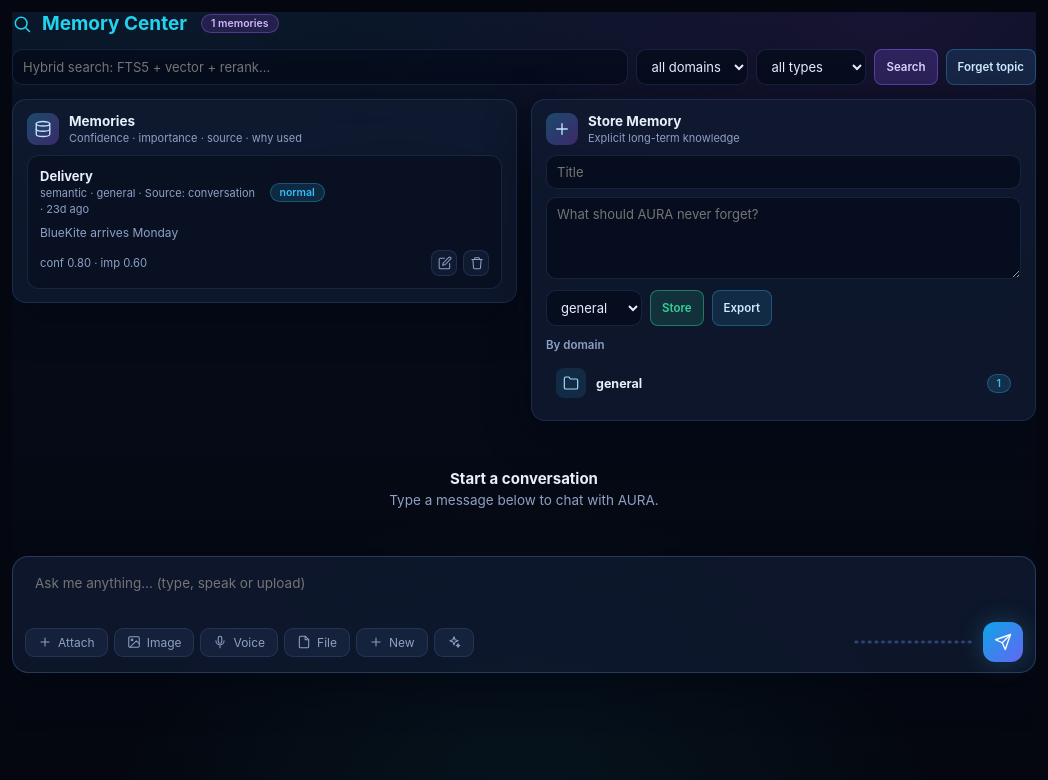
saves a correction through PATCH and shows its retained source
Click the button named "Correct Delivery" at (444, 263), box top-left (431, 250), bottom-right (457, 276)
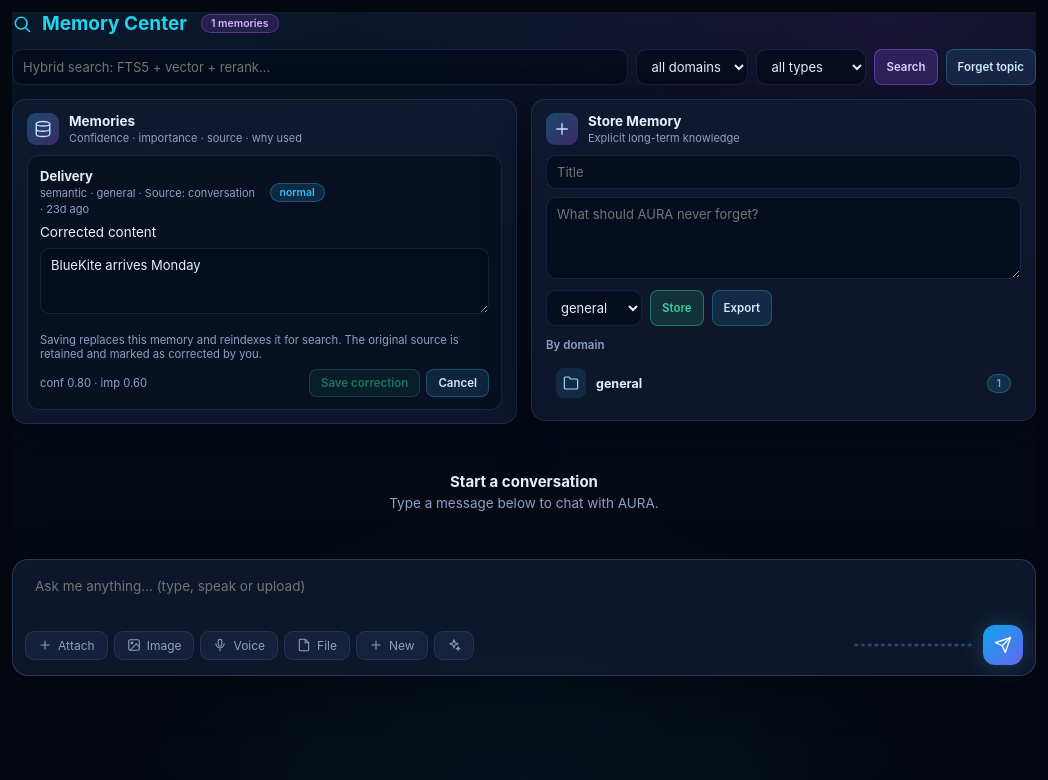
Replace the text in the text box labelled "Corrected content" with "  RedFinch arrives Friday  " at (264, 281), box top-left (40, 248), bottom-right (489, 314)
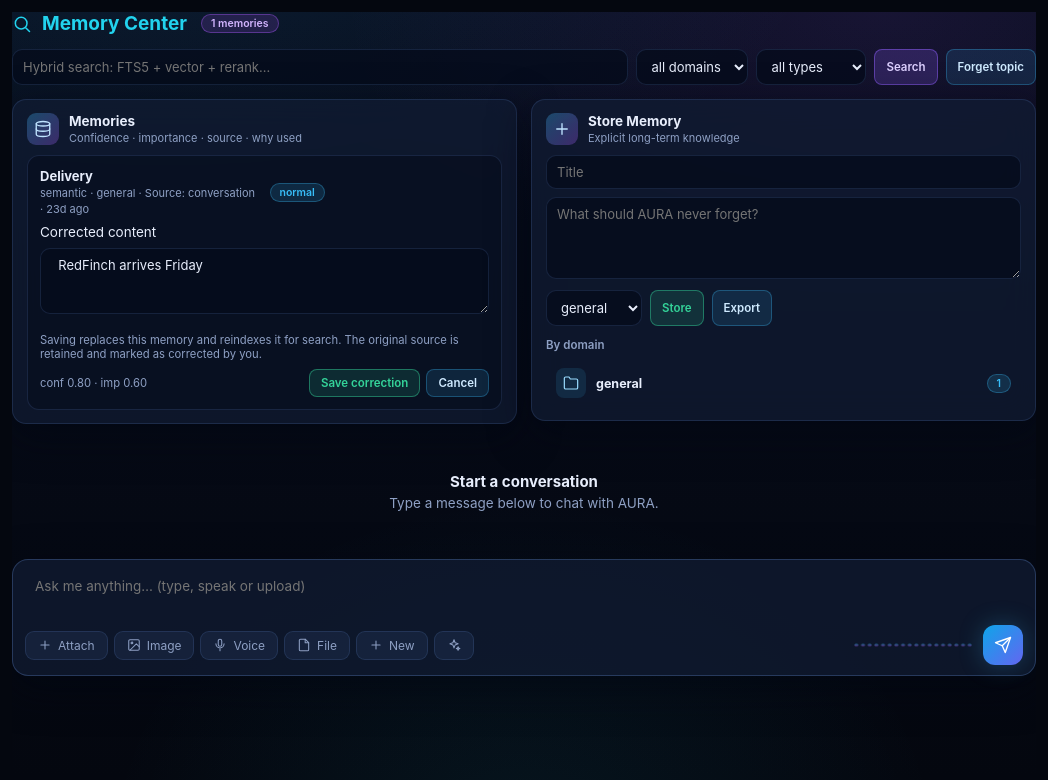
Click the button "Save correction" at (365, 383), box top-left (309, 369), bottom-right (420, 397)
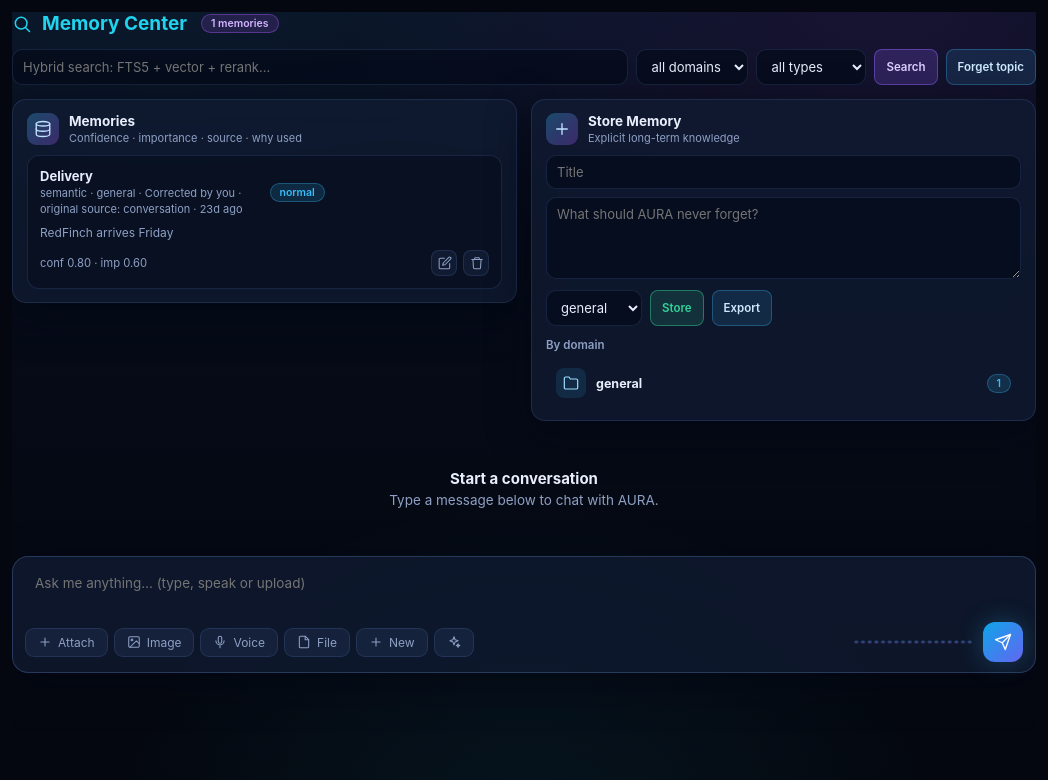
Expected: the text "RedFinch arrives Friday" is shown, top-left (40, 225), bottom-right (173, 240)
